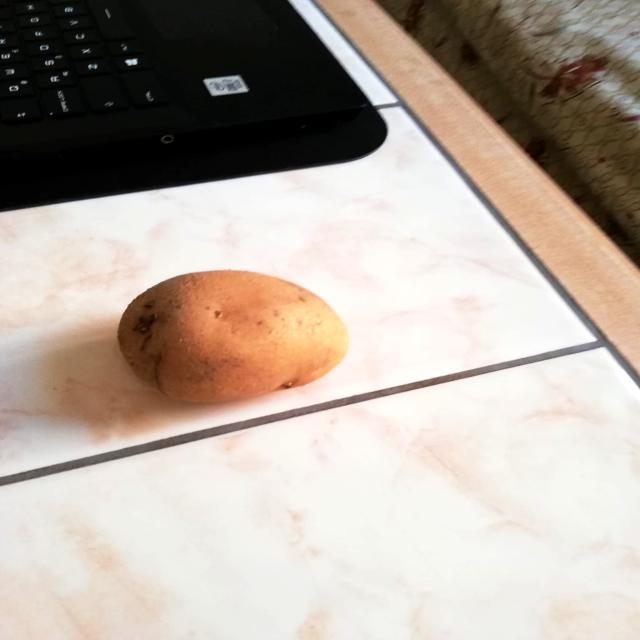potato: (107, 264, 361, 408)
